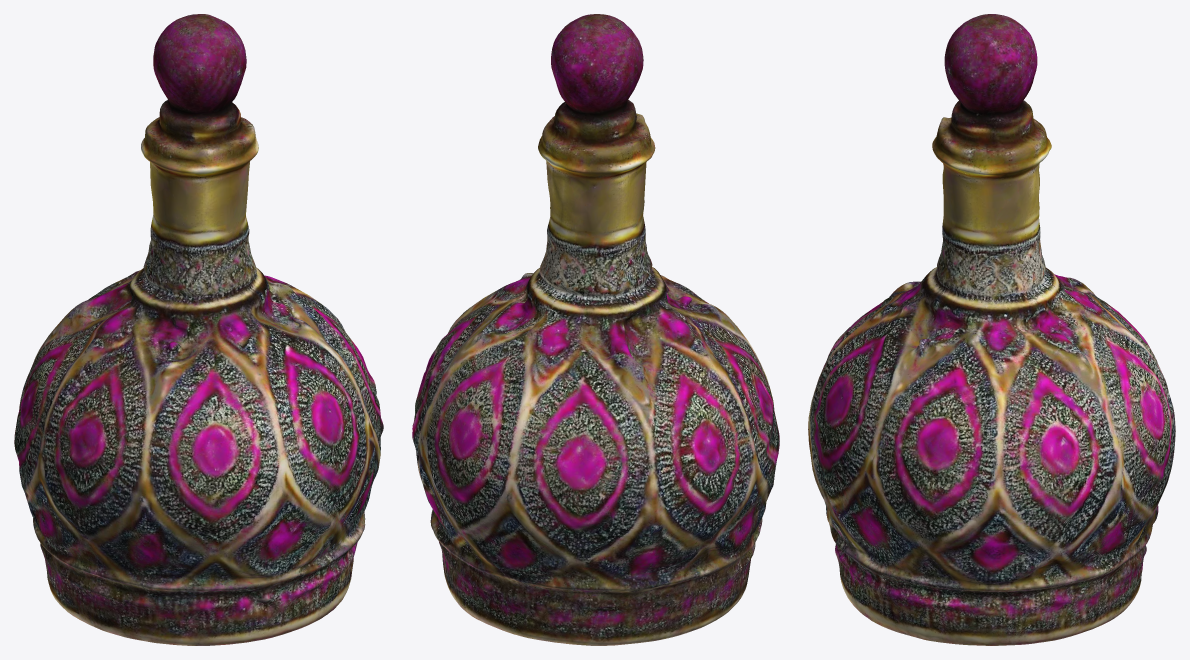
Rendered from velvet-oud.glb.
3 renders of one model, left to right at view 1: azimuth 30°, elevation 25°; view 2: azimuth 150°, elevation 25°; view 3: azimuth 270°, elevation 25°, orthographic.
Visible parts, largest first — view 1: Object_5; view 2: Object_5; view 3: Object_5.
Part boxes in pixels (<box>): Object_5: <box>14,14,383,645</box>; Object_5: <box>412,14,779,645</box>; Object_5: <box>808,14,1175,645</box>.
Size of the model in its own units: 1.04 by 1.76 by 1.04.
Materials: 1 (1 with a texture image).
